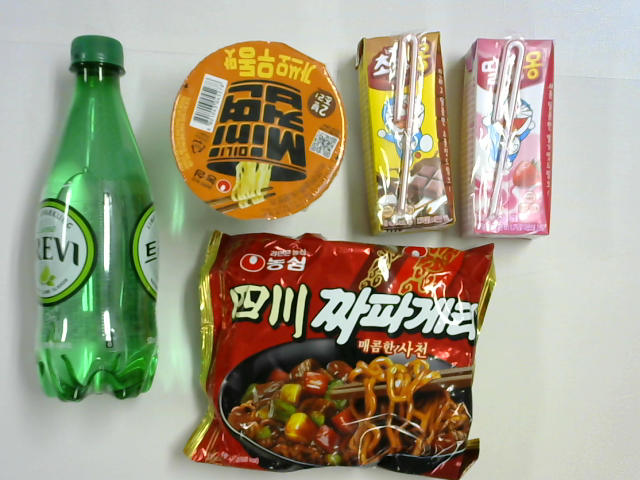Choco_E_Mong: (353, 30, 460, 221)
Sichuan_Chapaghetti: (206, 237, 509, 463)
Strawberry_E_Mong: (456, 21, 570, 246)
Treviraim_500ml: (20, 33, 180, 391)
Udongmini: (164, 37, 354, 217)
